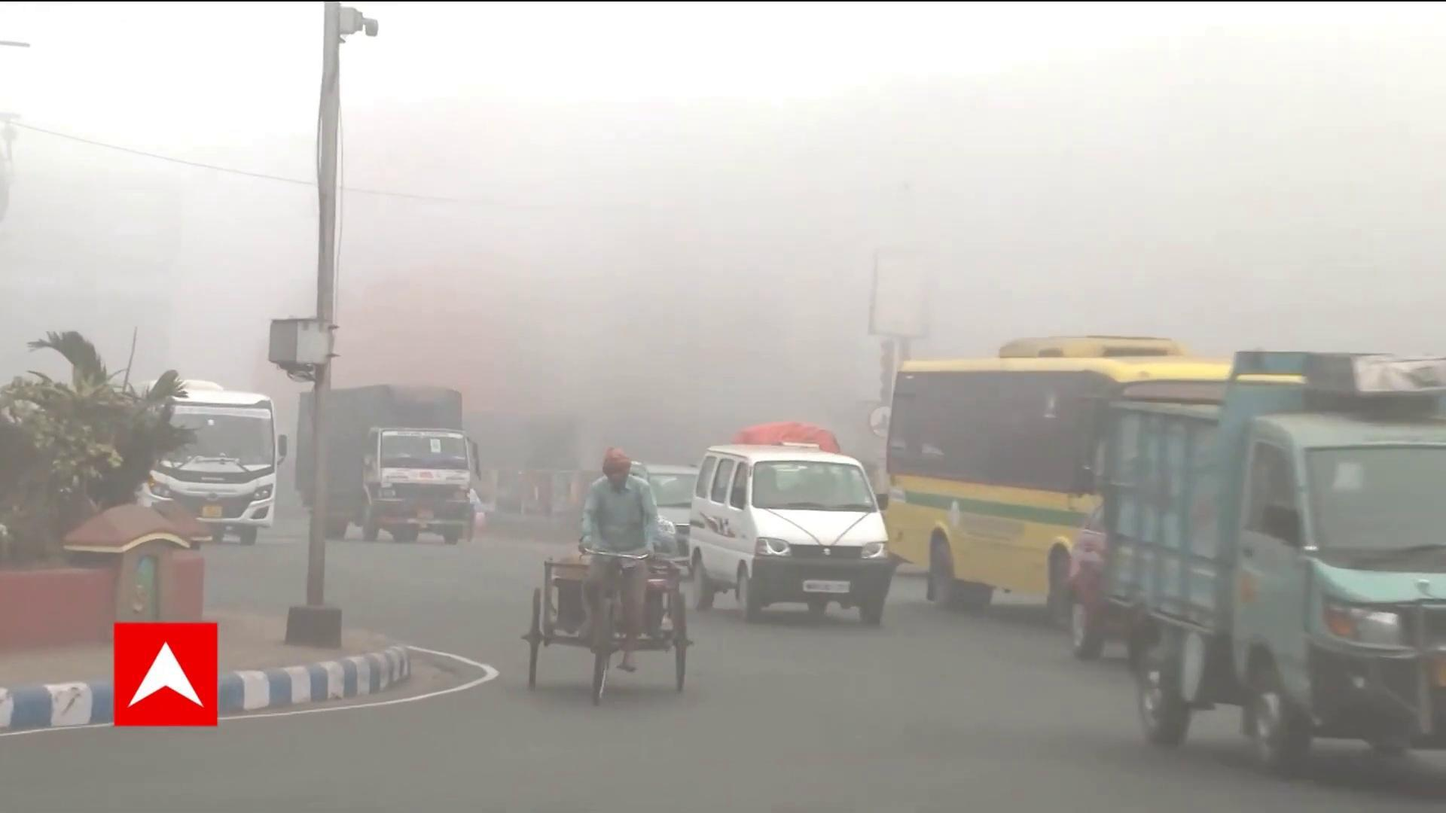Bus: (873, 333, 1280, 655)
Car: (679, 443, 897, 635)
Truck: (1101, 361, 1446, 772), (289, 380, 488, 556), (132, 373, 281, 543)
